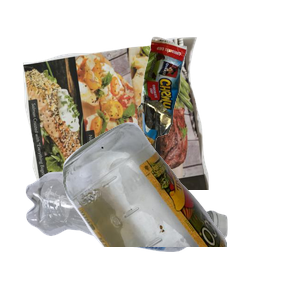glass: (60, 120, 300, 300)
paper: (20, 34, 221, 214)
plastic: (23, 169, 243, 300)
trash: (130, 34, 300, 203)
